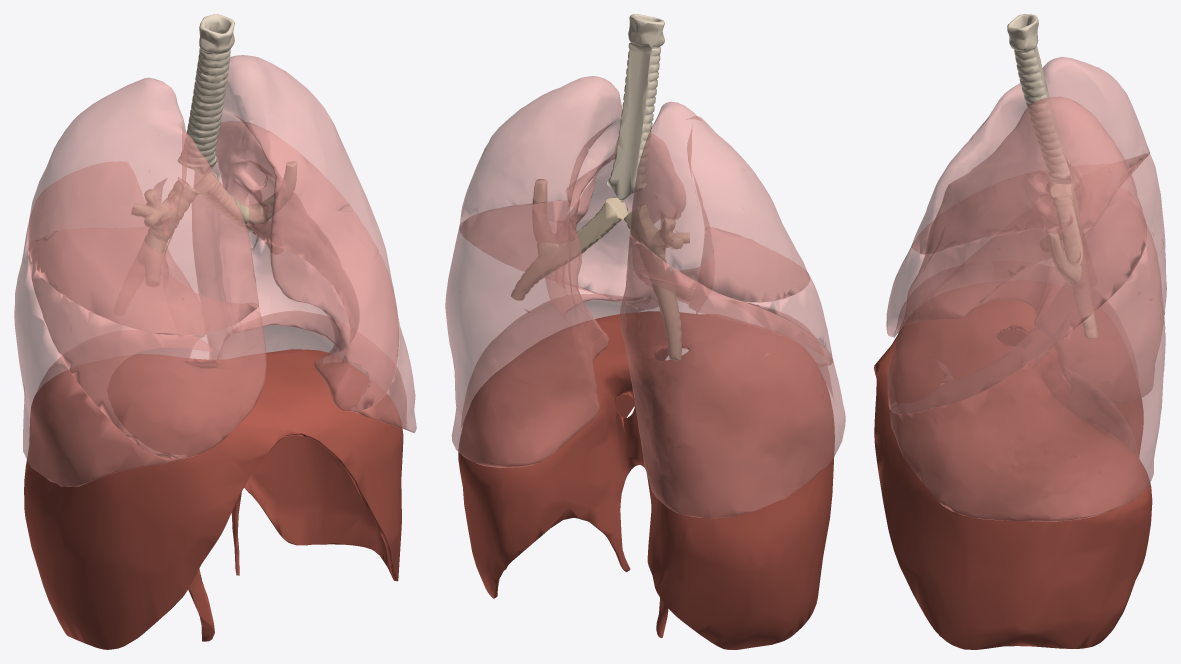
The model's file is lungs.glb.
3 renders of one model, left to right at view 1: azimuth 30°, elevation 25°; view 2: azimuth 150°, elevation 25°; view 3: azimuth 270°, elevation 25°, orthographic. The views are drawn at different scales.
Visible parts, largest first — view 1: alveoli, diaphragm, trachea, bronchi; view 2: alveoli, diaphragm, bronchi, trachea; view 3: alveoli, diaphragm, trachea, bronchi.
Boxes of the visible parts, x1=… form: alveoli: x1=14, y1=55, x2=416, y2=486; diaphragm: x1=24, y1=349, x2=403, y2=649; trachea: x1=177, y1=14, x2=234, y2=174; bronchi: x1=131, y1=161, x2=296, y2=254; alveoli: x1=445, y1=76, x2=845, y2=518; diaphragm: x1=458, y1=311, x2=834, y2=649; bronchi: x1=511, y1=179, x2=689, y2=360; trachea: x1=607, y1=14, x2=664, y2=200; alveoli: x1=886, y1=57, x2=1166, y2=521; diaphragm: x1=874, y1=299, x2=1152, y2=649; trachea: x1=1007, y1=14, x2=1072, y2=183; bronchi: x1=1048, y1=183, x2=1097, y2=338.
Size of the model in its own units: 1.53 by 2.6 by 1.14.
